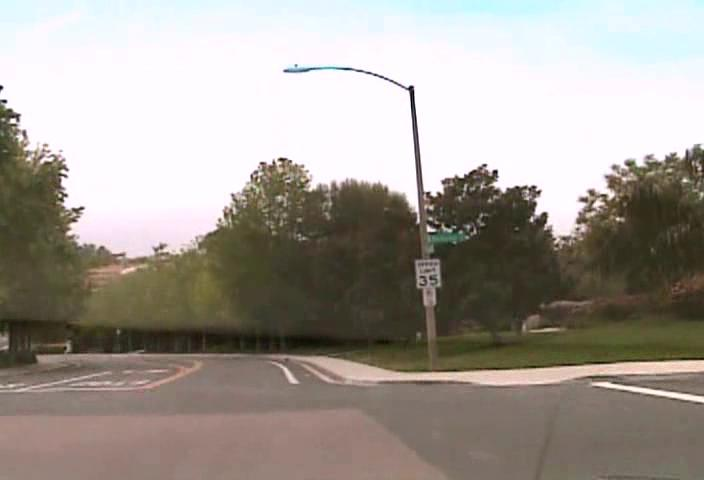speedLimit35: (414, 257, 441, 288)
